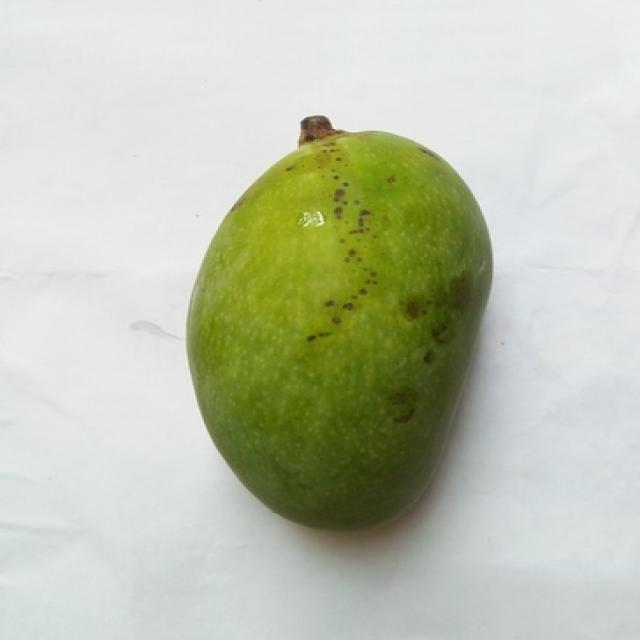Mango: (186, 132, 491, 530)
